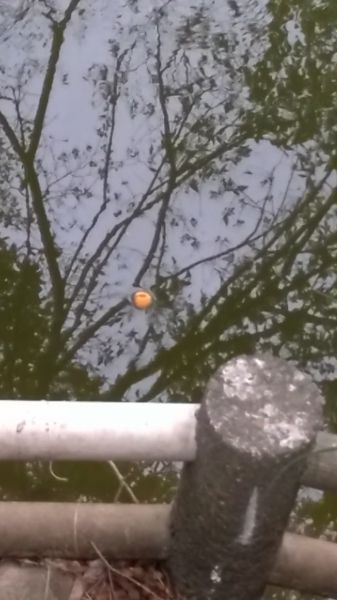eggs: (129, 285, 156, 312)
